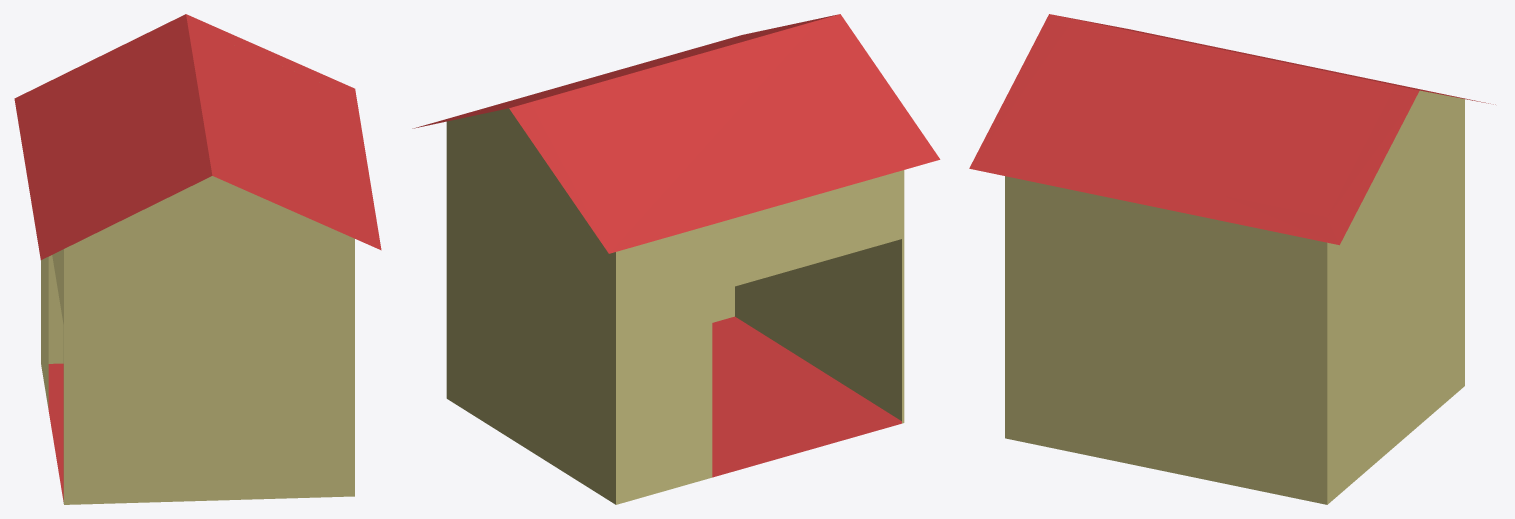
3 renders of one model, left to right at view 1: azimuth 30°, elevation 25°; view 2: azimuth 150°, elevation 25°; view 3: azimuth 270°, elevation 25°, orthographic. The views are drawn at different scales.
Bounding box in the file's own units: 14.29 × 14.88 × 11.12.
